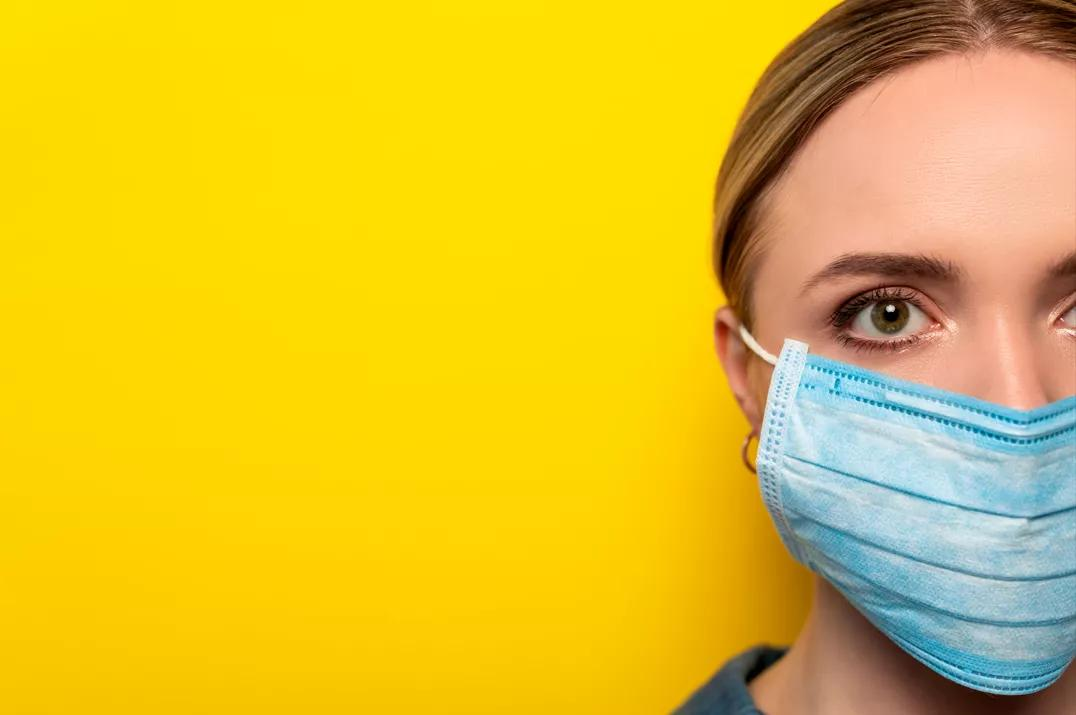mask: (723, 20, 1076, 712)
